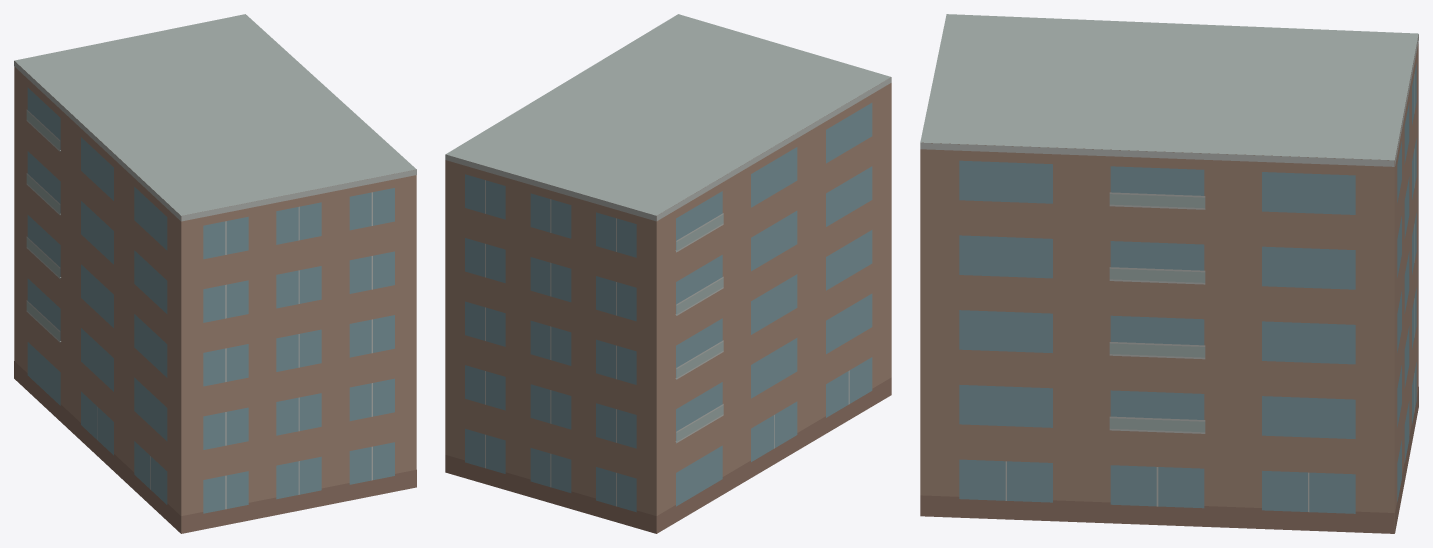
File: survey-upis-32753457.glb
The picture shows the model from 3 angles, left to right: view 1: azimuth 30°, elevation 25°; view 2: azimuth 150°, elevation 25°; view 3: azimuth 270°, elevation 25°; orthographic projection. The views are drawn at different scales.
Parts seen in each view (by area): view 1: survey-upis-32753457.tmp; view 2: survey-upis-32753457.tmp; view 3: survey-upis-32753457.tmp.
Part boxes in pixels (left/top/right/bottom): survey-upis-32753457.tmp: left=14, top=14, right=416, bottom=533; survey-upis-32753457.tmp: left=445, top=14, right=891, bottom=533; survey-upis-32753457.tmp: left=920, top=14, right=1418, bottom=533.
Bounding box in the file's own units: 11.6 × 13.8 × 16.7.
